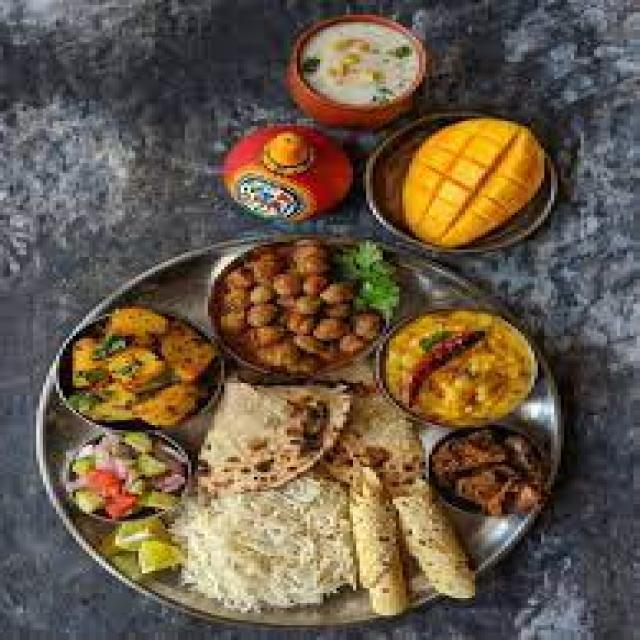curd: (267, 3, 439, 132)
dal: (373, 292, 552, 429)
papad: (170, 475, 367, 606), (177, 372, 342, 501)
raita: (272, 3, 429, 131)
roti: (325, 371, 457, 573)
sweet: (224, 115, 363, 227), (46, 426, 196, 528)
veg-fry: (366, 292, 552, 437), (53, 295, 217, 431)
